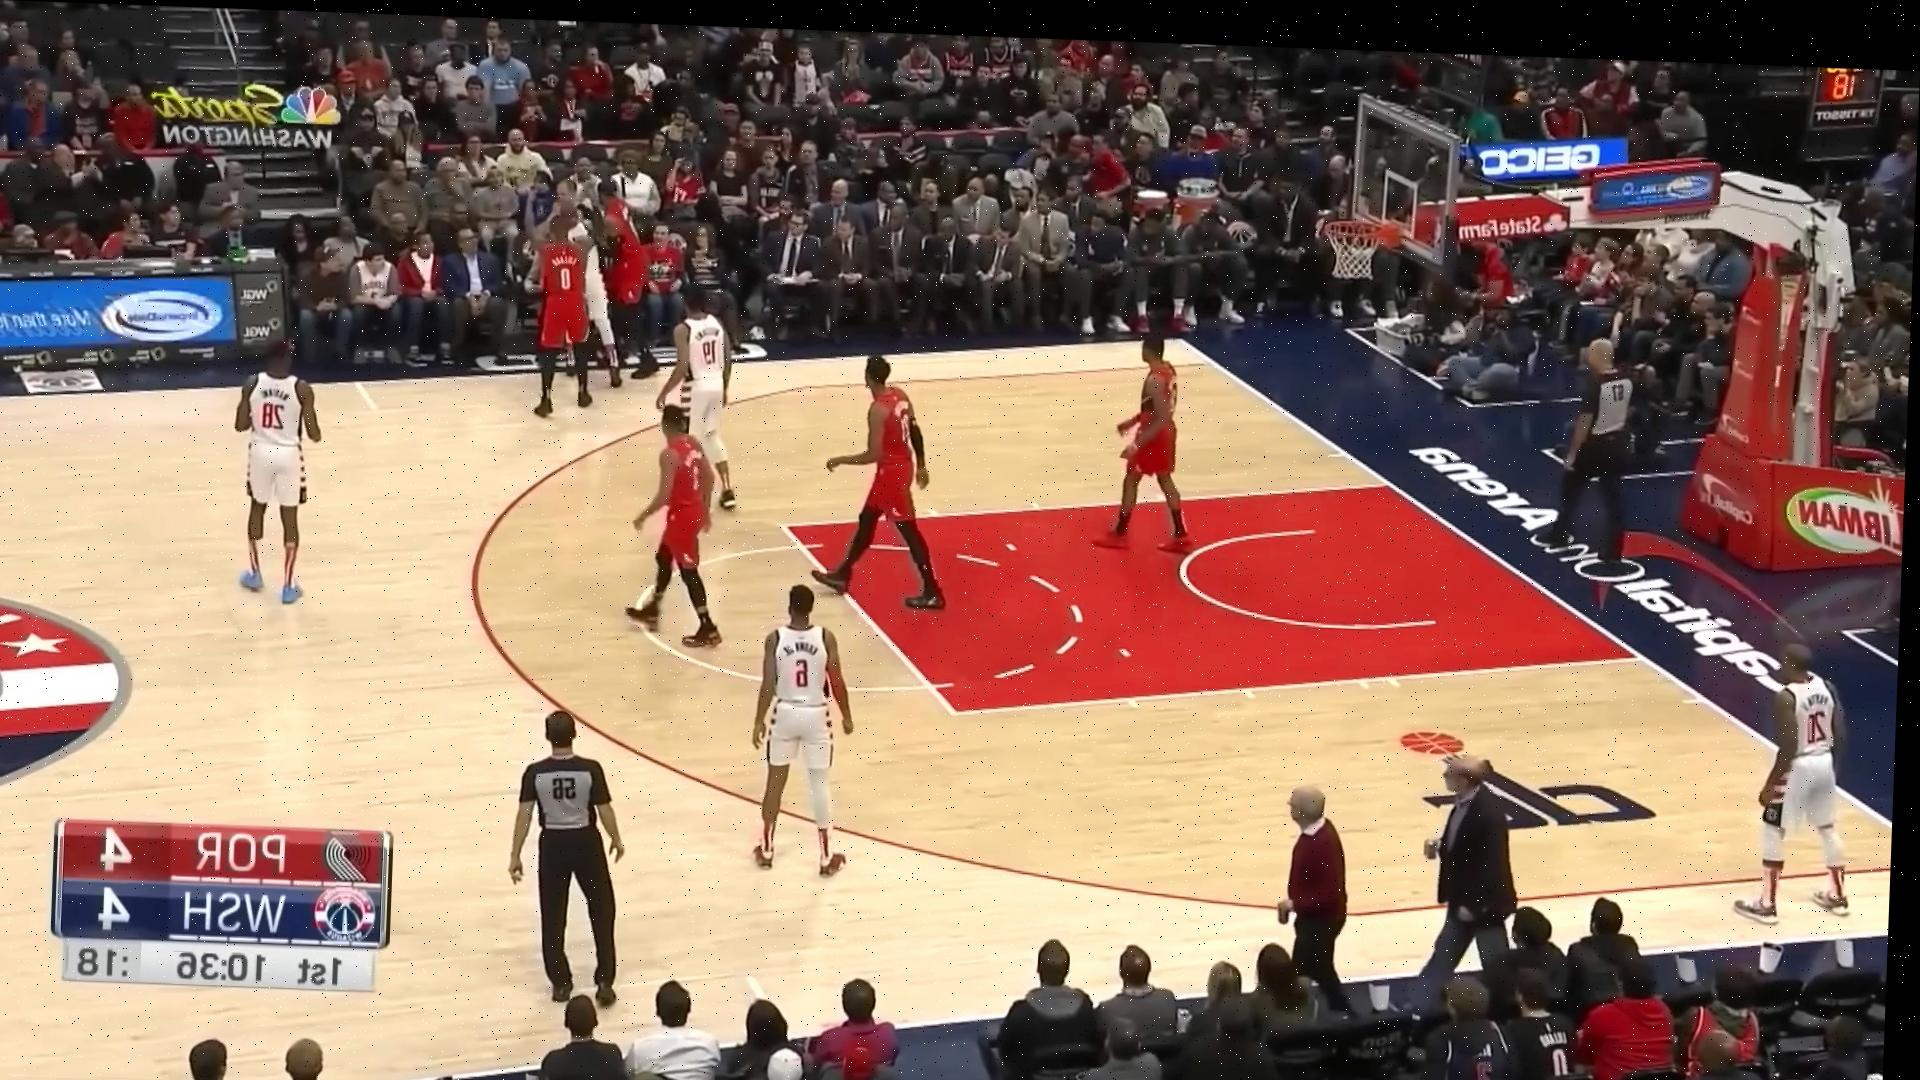foul: (508, 160, 675, 422)
